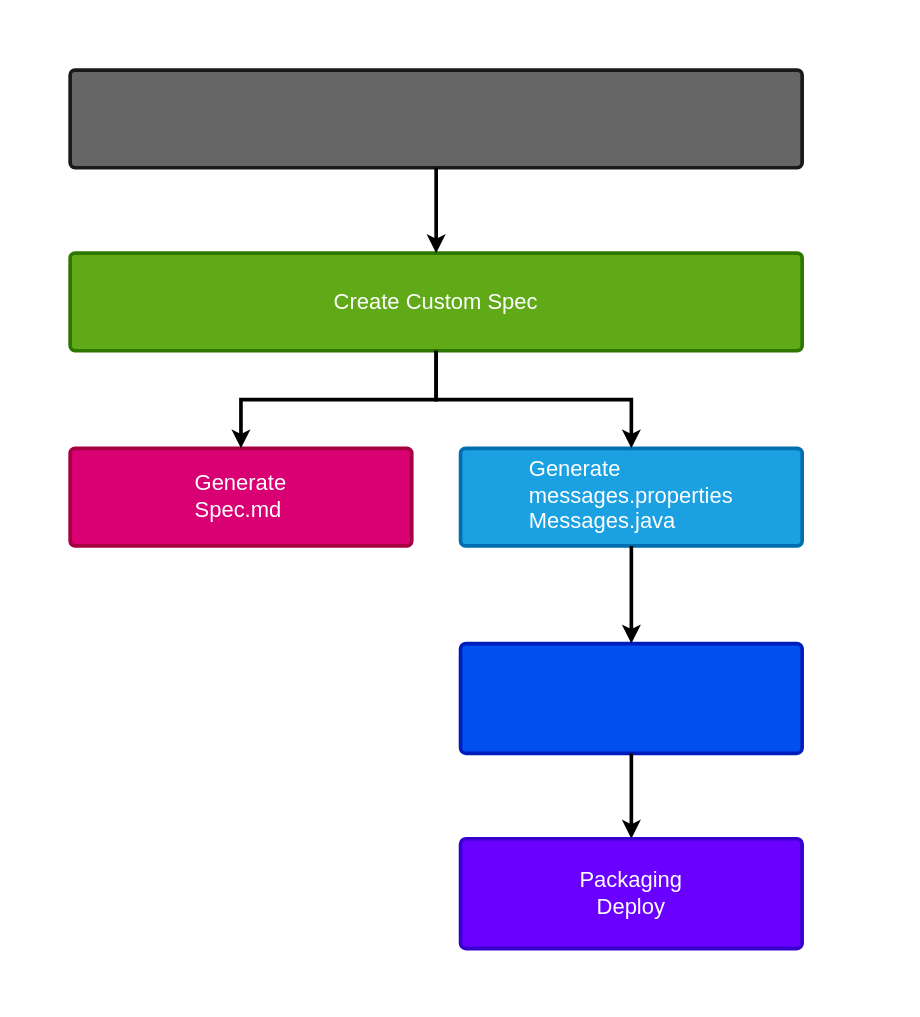
Some shapes in this 920 by 1017 pixel diagram are drawn without their labels. The box of each missing label's shape, as (x1, y1, x2, y2) in pixels:
Create Custom Project: (68, 68, 803, 169)
Programing Custom Flow or Command: (458, 641, 803, 755)
